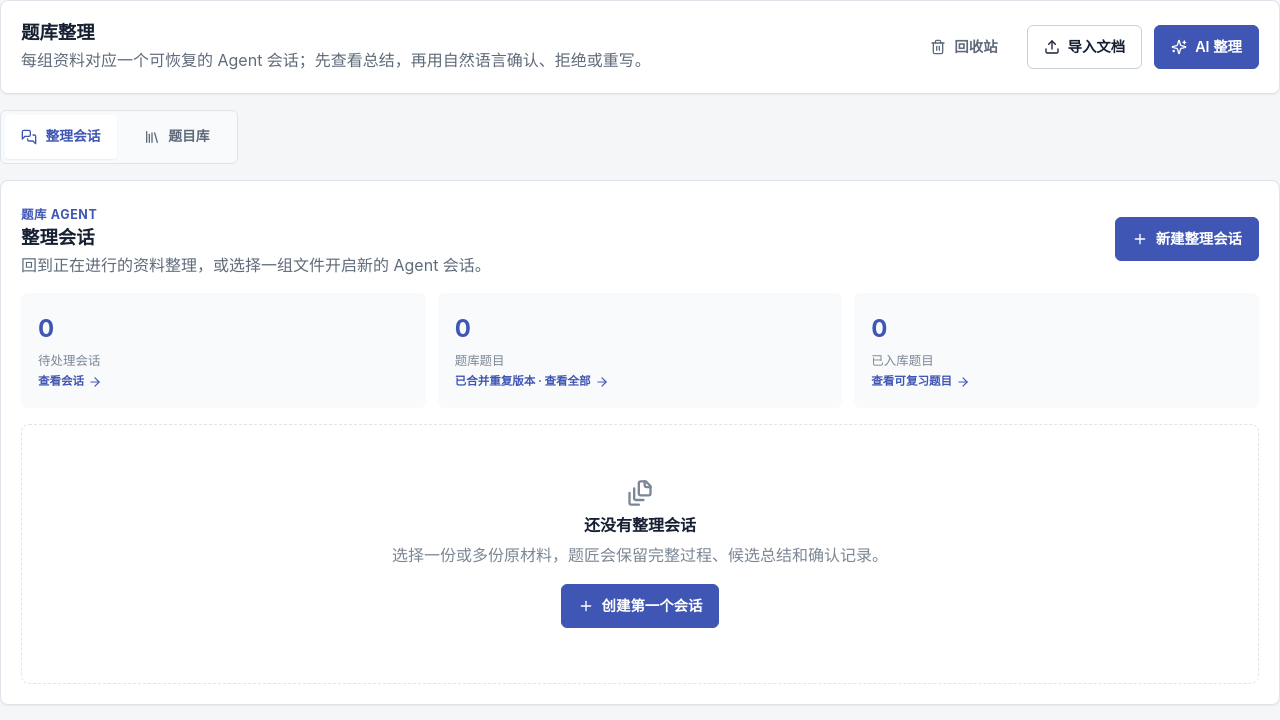
Scenario: QuestionCatalog › keeps the question library as a separate secondary view
The width and height of the screenshot is (1280, 720).
Expected: the tab "整理会话" is shown, top-left (5, 115), bottom-right (117, 159)
Click the button "0 已入库题目 查看可复习题目" at x=903, y=360, box top-left (854, 293), bottom-right (1259, 408)
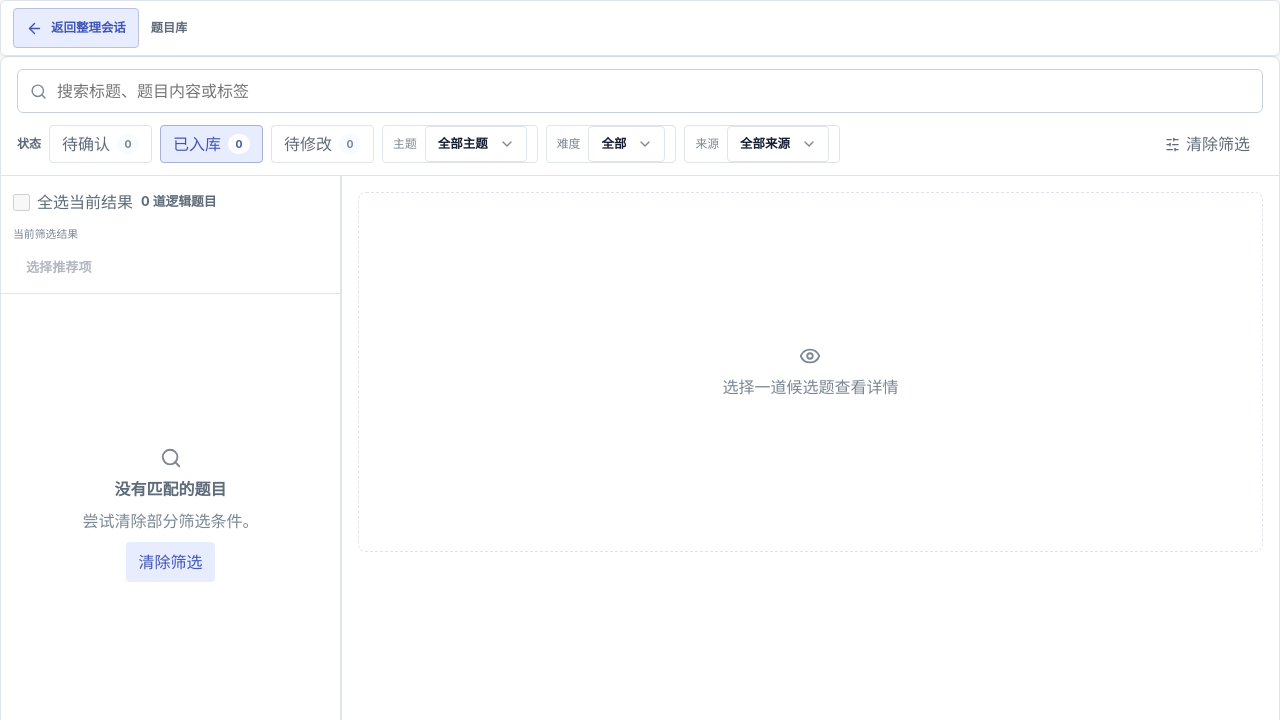
Expected: the field named "搜索候选题" is shown, top-left (55, 78), bottom-right (1242, 104)
Expected: the button "返回整理会话" is shown
Expected: the text "没有匹配的题目" is shown, top-left (114, 477), bottom-right (226, 501)
Click the button "返回整理会话" at x=76, y=28, box top-left (13, 8), bottom-right (139, 48)
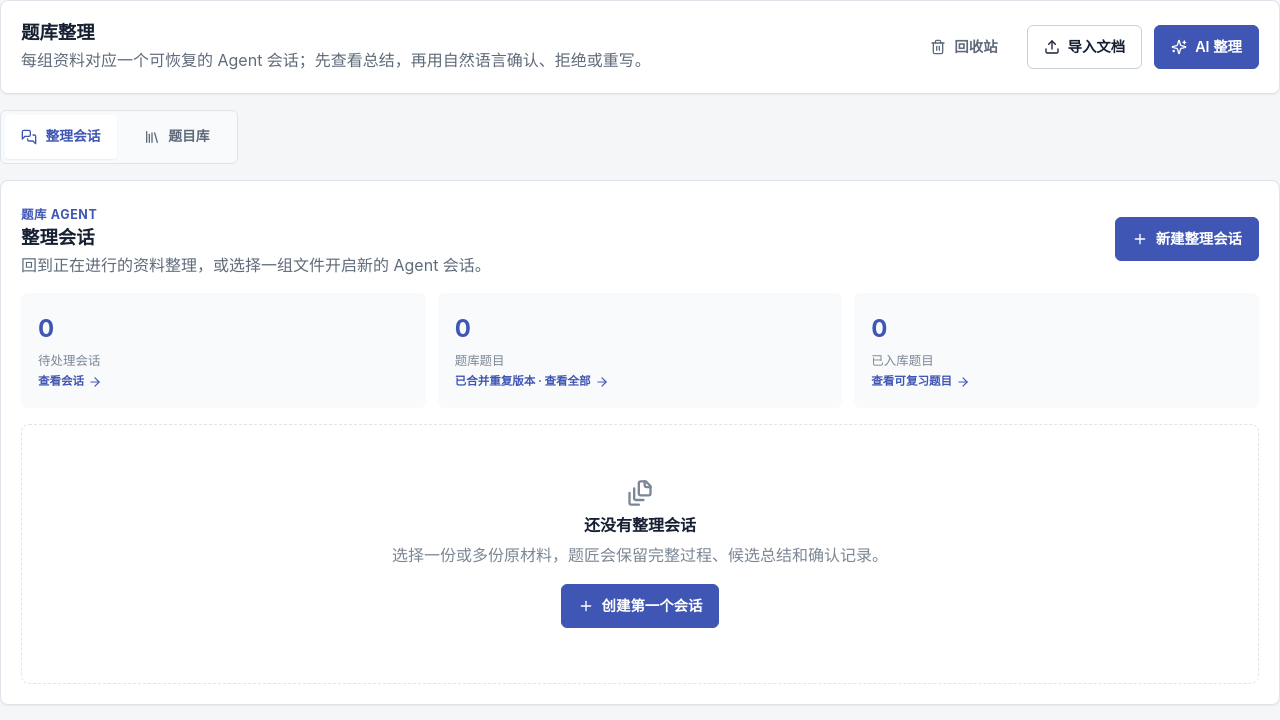
Expected: the element named "历史整理会话" is shown, top-left (21, 424), bottom-right (1259, 684)
